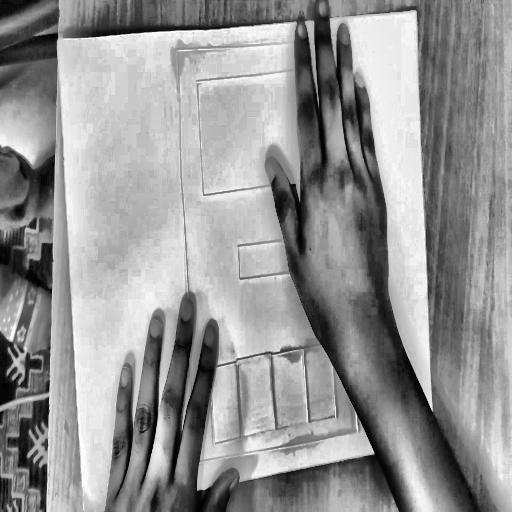bottom_right: (431, 430, 437, 442)
door: (171, 28, 369, 477)
top_left: (55, 37, 60, 46)
top_right: (412, 3, 421, 17)
